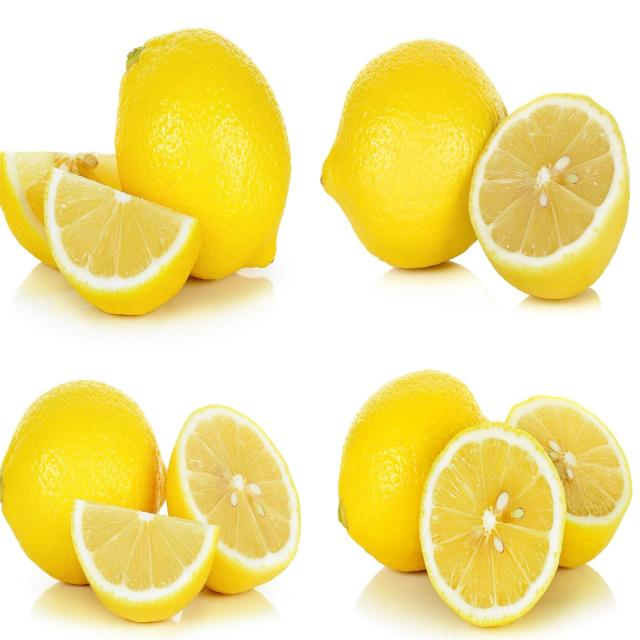lemon: (113, 24, 295, 283), (464, 85, 634, 304), (416, 416, 567, 633), (67, 495, 222, 626)
